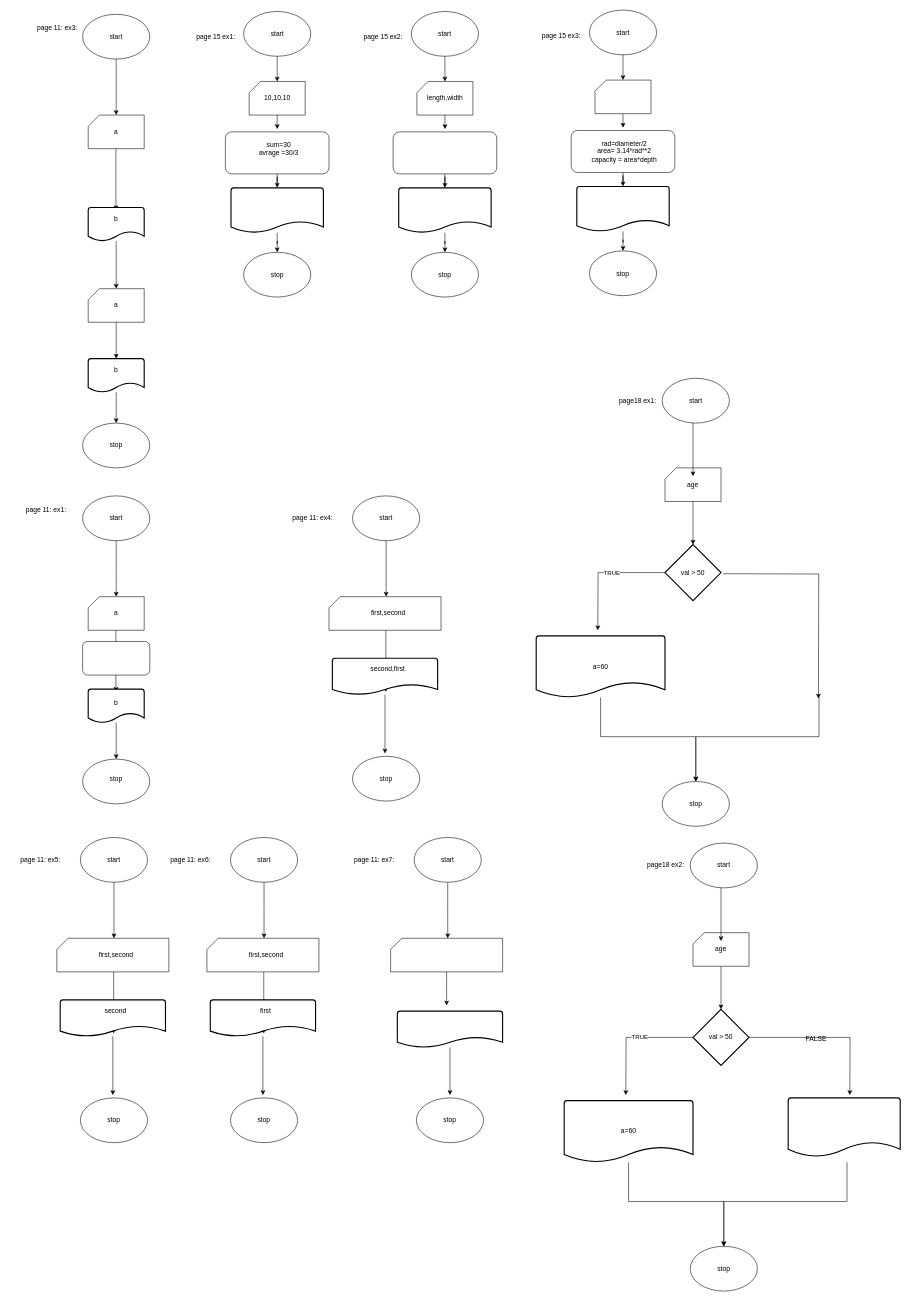
Some shapes in this 910 by 1301 pixel diagram are drawn without their labels. Each missing label, with the box of its shape:
a *2: (82, 641, 150, 675)
a=40: (787, 1097, 900, 1157)
capacity: (576, 186, 669, 232)
diameter, depth: (594, 80, 651, 114)
length=6 width=11 room area = 6*11: (393, 131, 497, 174)
number: (390, 938, 503, 972)
number,number,number: (396, 1010, 503, 1048)
room area: (398, 187, 491, 233)
sum,average: (230, 187, 324, 233)
